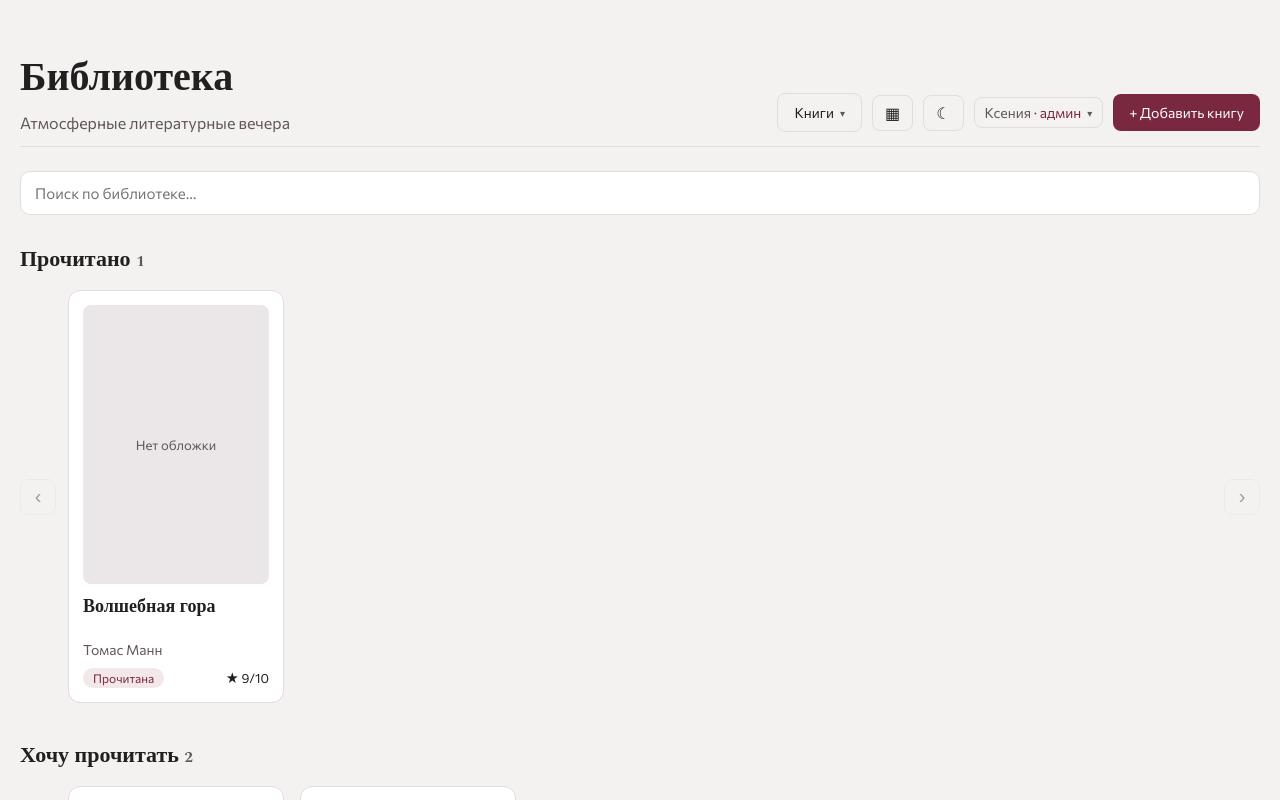
Test: справочник жанров открывается из меню «Книги»
The width and height of the screenshot is (1280, 800).
Expected: the heading "Волшебная гора" is shown, [83, 593, 215, 620]
What coordinates should you click on to do the following:
click the button "Книги ▾"
I would click on:
 (820, 112)
Its box is [777, 93, 862, 132].
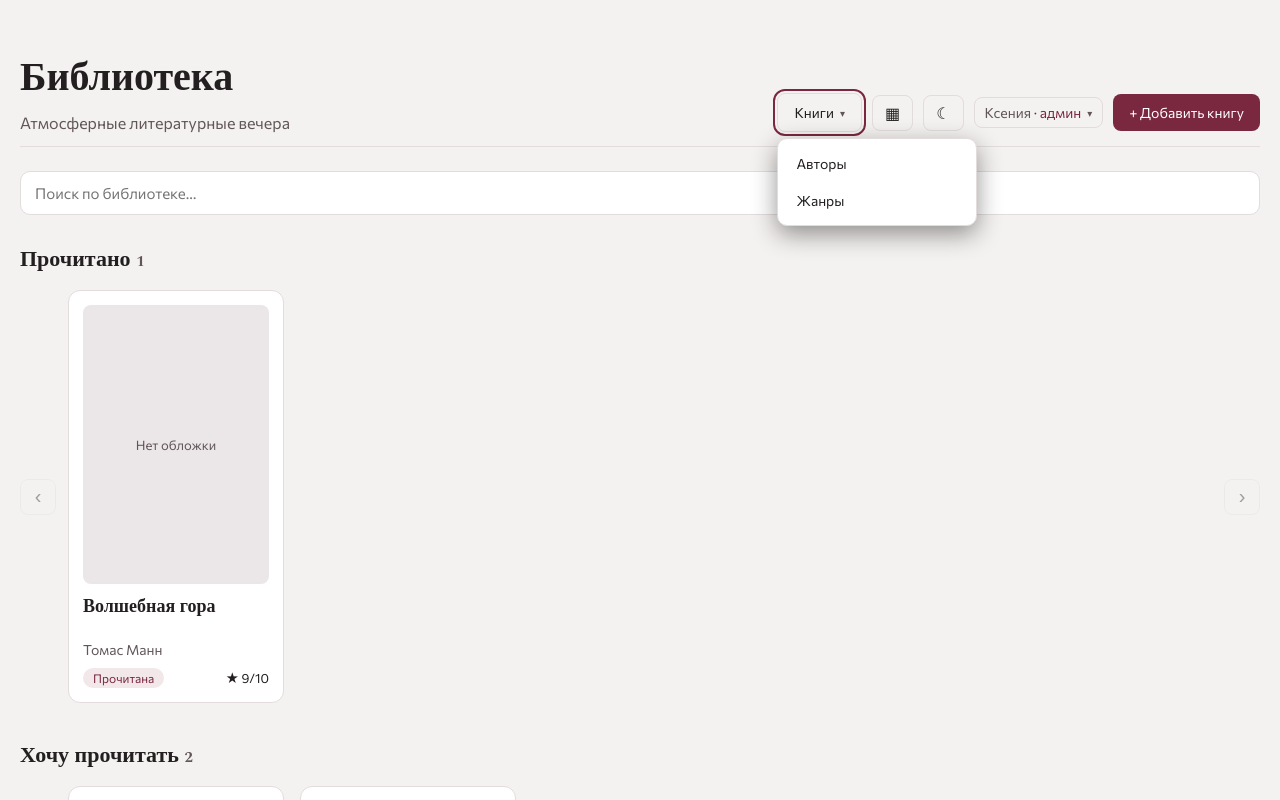
What coordinates should you click on to do the following:
click the menu item "Жанры"
I would click on:
 (820, 200)
Its box is [796, 192, 844, 209].
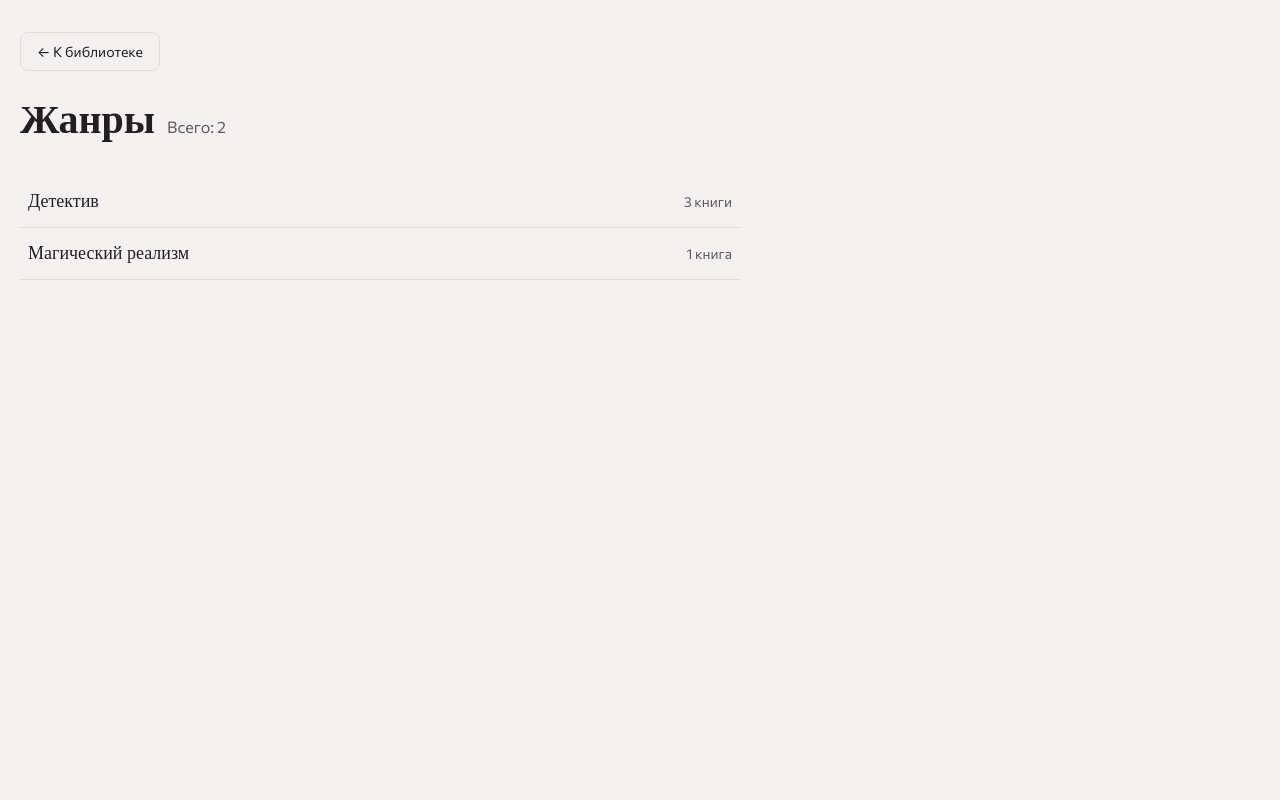
Now the heading "Жанры" is shown, box [20, 91, 155, 152]
Now the text "3 книги" is shown, box [684, 193, 732, 210]
Now the text "1 книга" is shown, box [686, 245, 732, 262]
